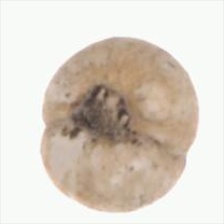L4: (40, 37, 199, 214)
